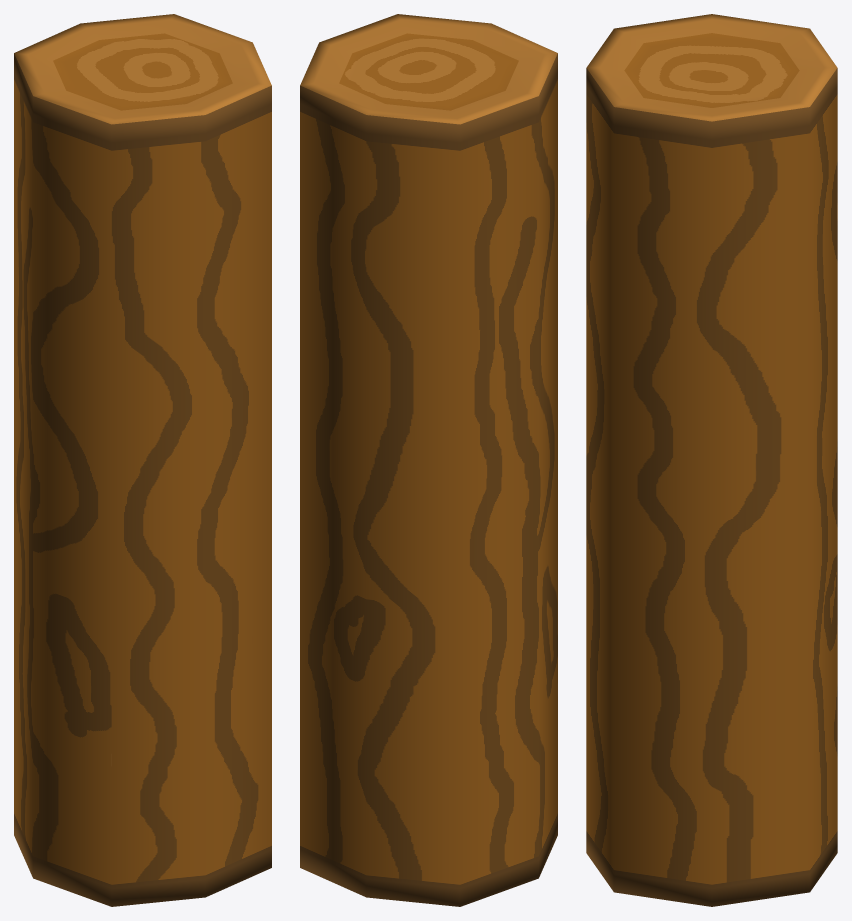
The model's file is ZAUN PFAHL.fbx.
The picture shows the model from 3 angles, left to right: view 1: azimuth 30°, elevation 25°; view 2: azimuth 150°, elevation 25°; view 3: azimuth 270°, elevation 25°; orthographic projection.
Parts seen in each view (by area): view 1: Zaunpfahl; view 2: Zaunpfahl; view 3: Zaunpfahl.
Boxes of the visible parts, x1,y1,x2,y2 form: Zaunpfahl: (14, 14, 271, 906); Zaunpfahl: (300, 14, 557, 906); Zaunpfahl: (586, 14, 837, 906).
Size of the model in its own units: 143 by 141 by 487.
